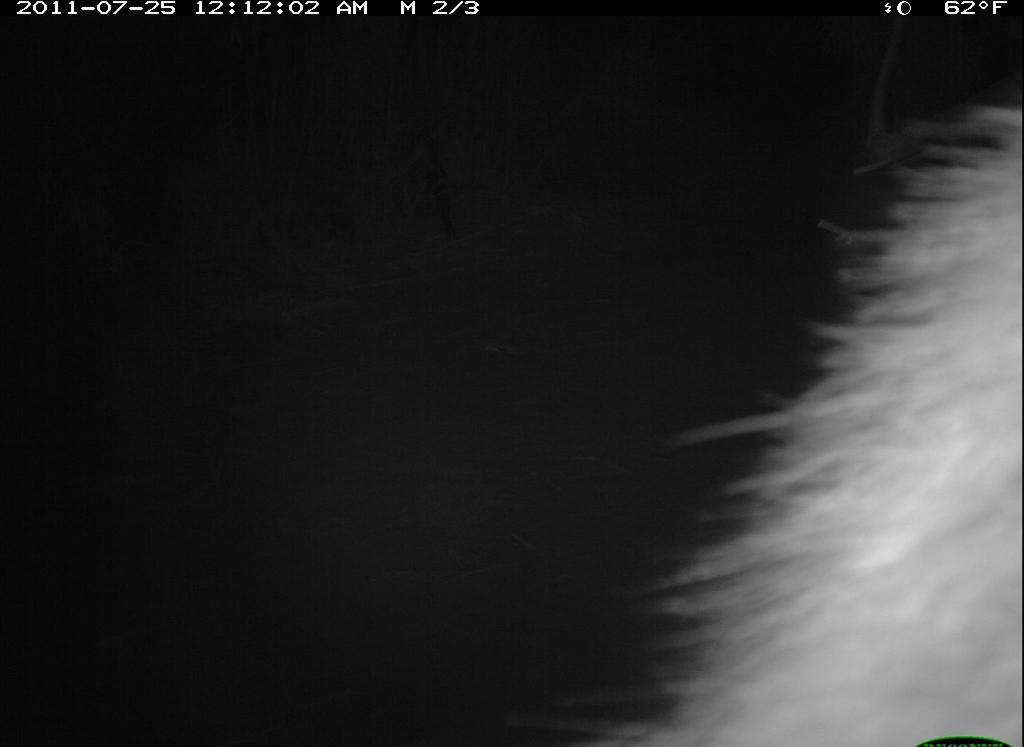raccoon: (561, 103, 1023, 747)
